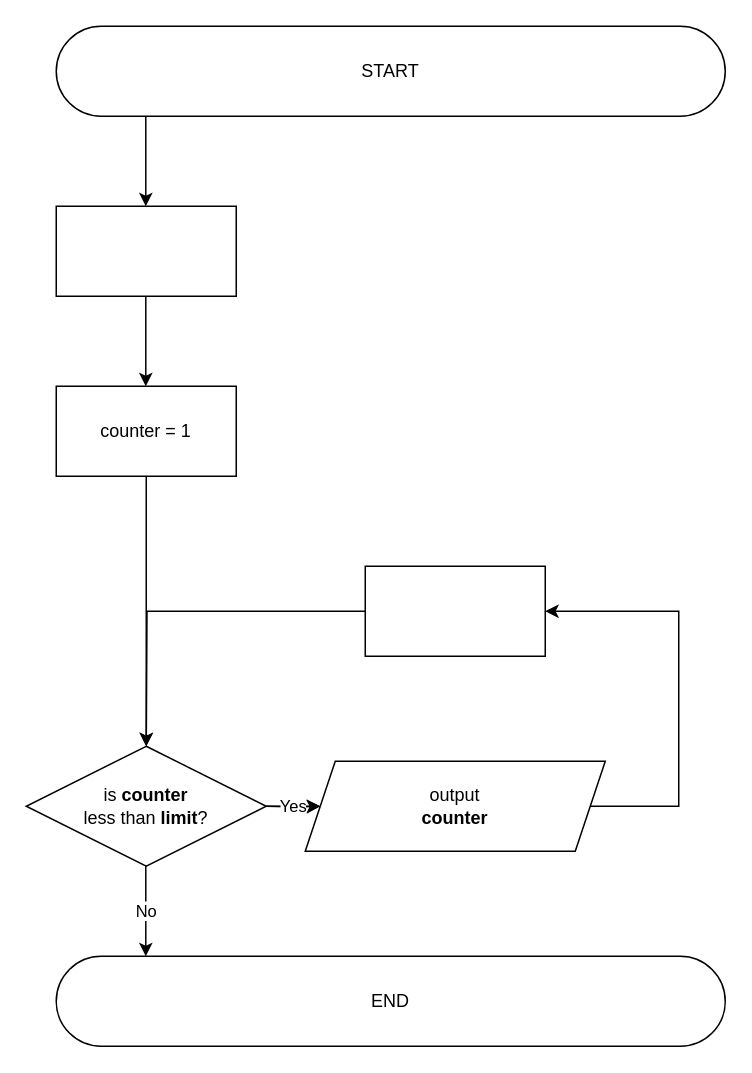
Some shapes in this 752 by 1073 pixel diagram are drawn without their labels. Here are the shapes that lost their labels. From the top down, the centre of each, then its label:
At (x=145, y=250): "limit = 12".
At (x=454, y=610): "add 1 to counter".
